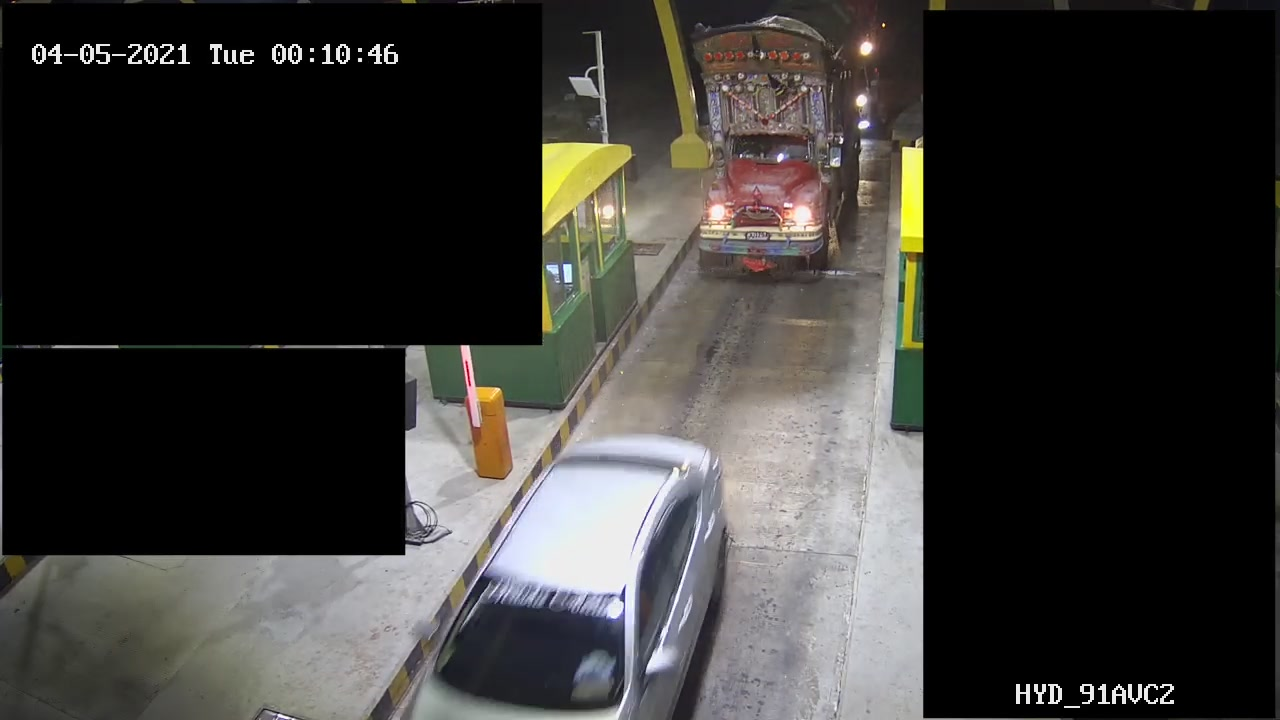F5: (682, 1, 860, 285)
